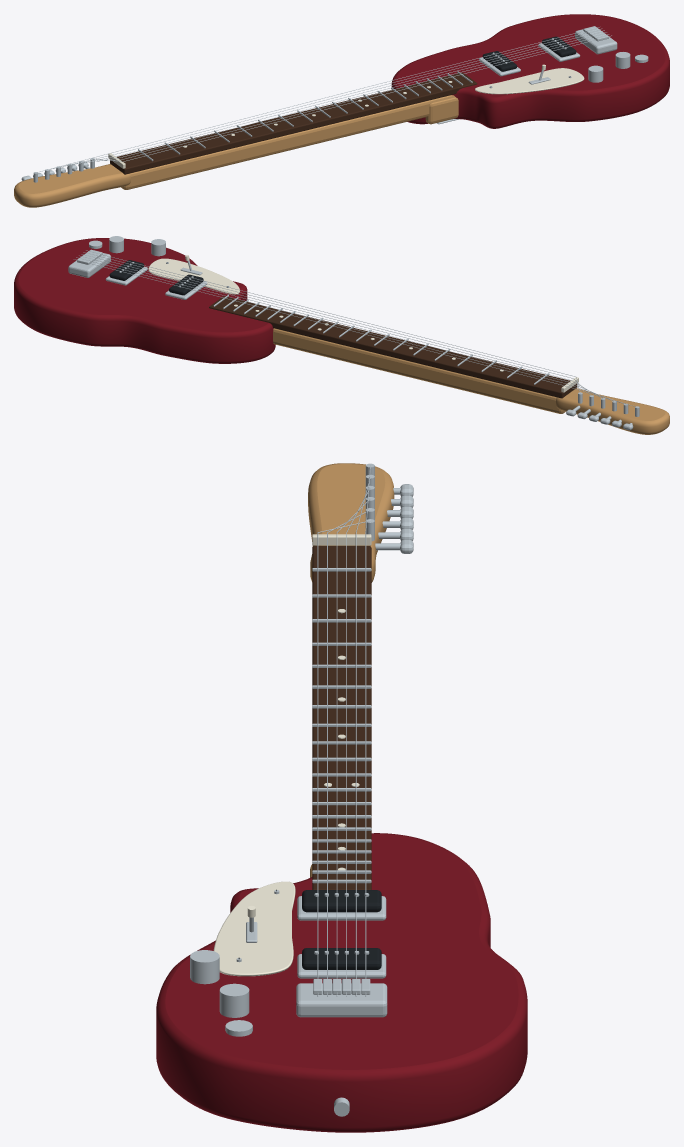
File: Guitar.fbx
3 views of the same model, one above another, from view 1: azimuth 30°, elevation 25°; view 2: azimuth 150°, elevation 25°; view 3: azimuth 270°, elevation 25° (orthographic). The views are drawn at different scales.
Visible parts, largest first — view 1: Carved body, Rosewood fingerboard, Maple neck, Headstock, Inset pickguard, Neck heel, Bridge, String 5, String 3, String 2, String 4, String 6 (+3 smaller); view 2: Carved body, Rosewood fingerboard, Maple neck, Headstock, Inset pickguard, Bridge, String 6, String 2, String 4, String 1, String 3, String 5 (+2 smaller); view 3: Carved body, Rosewood fingerboard, Inset pickguard, Headstock, Bridge, Pickup, Pickup.001, Control knob, Pickup surround.001, Pickup surround, Control knob.001.
Part boxes in pixels (x1,y1,x2,y2): Carved body: [391, 14, 669, 128]; Rosewood fingerboard: [110, 72, 477, 174]; Maple neck: [121, 95, 455, 189]; Headstock: [14, 164, 130, 207]; Inset pickguard: [475, 68, 584, 94]; Neck heel: [425, 97, 458, 124]; Bridge: [575, 29, 617, 54]; String 5: [113, 28, 602, 154]; String 3: [118, 32, 606, 158]; String 2: [121, 34, 609, 159]; String 4: [116, 30, 604, 156]; String 6: [111, 27, 599, 152]; Carved body: [14, 238, 275, 363]; Rosewood fingerboard: [209, 296, 577, 398]; Maple neck: [273, 328, 565, 413]; Headstock: [556, 388, 669, 434]; Inset pickguard: [148, 258, 239, 294]; Bridge: [68, 253, 110, 277]; String 6: [73, 259, 563, 385]; String 2: [83, 252, 573, 378]; String 4: [79, 255, 568, 382]; String 1: [86, 250, 575, 376]; String 3: [81, 254, 571, 380]; String 5: [76, 257, 566, 383]; Carved body: [156, 833, 527, 1132]; Rosewood fingerboard: [312, 546, 371, 889]; Inset pickguard: [213, 881, 295, 976]; Headstock: [308, 463, 394, 582]; Bridge: [296, 983, 387, 1017]; Pickup: [302, 890, 381, 912]; Pickup.001: [302, 948, 381, 969]; Control knob: [219, 983, 249, 1017]; Pickup surround.001: [297, 954, 386, 978]; Pickup surround: [297, 896, 386, 920]; Control knob.001: [190, 950, 219, 984].
Bounding box in the file's own units: 130 × 9.59 × 32.56.
